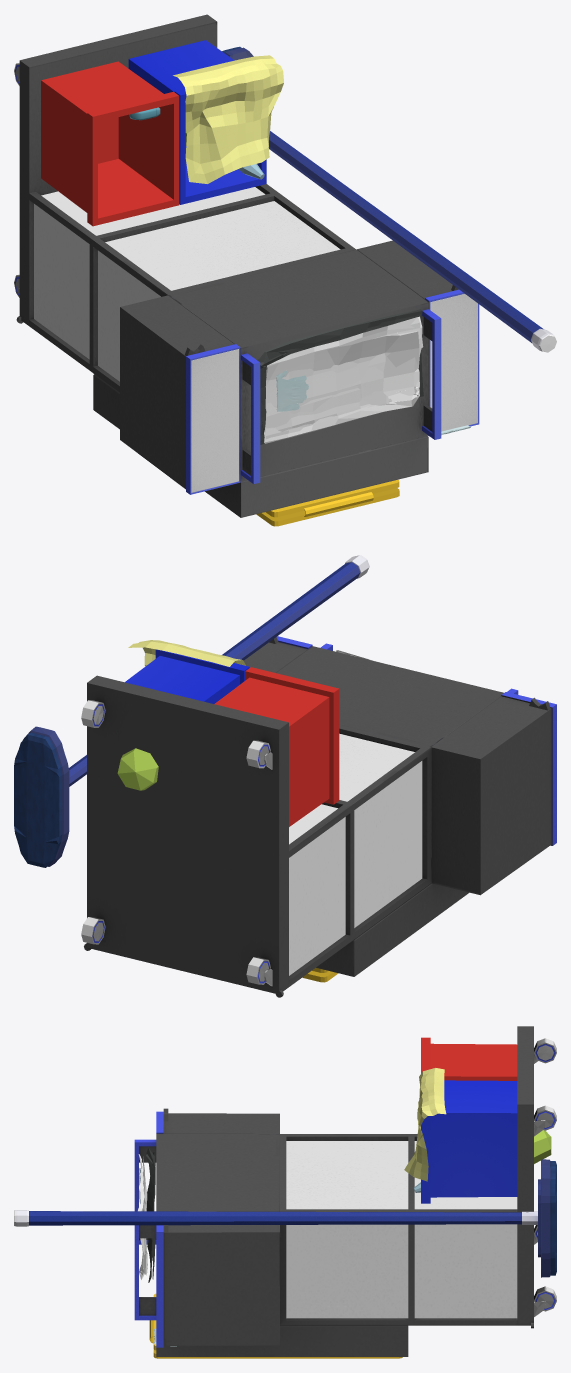
The model's file is MopCart3.obj.
3 views of the same model, one above another, from view 1: azimuth 30°, elevation 25°; view 2: azimuth 150°, elevation 25°; view 3: azimuth 270°, elevation 25° (orthographic). The views are drawn at different scales.
Visible parts, largest first — view 1: Cart_Cube.001, Red_Cube.005, Parcel_Plane.001, Cloth_Plane, Mop_Cube, Bucket_Cube.000, Plastic_Plane.000, Sign_Cylinder, Glove2_Cube.003; view 2: Cart_Cube.001, Mop_Cube, Red_Cube.005, Bucket_Cube.000, Duster_Cylinder.001, Cloth_Plane; view 3: Cart_Cube.001, Bucket_Cube.000, Mop_Cube, Red_Cube.005, Cloth_Plane, Plastic_Plane.000, Sign_Cylinder, Parcel_Plane.001, Duster_Cylinder.001.
Boxes of the visible parts, bbox=[...] form: Cart_Cube.001: bbox=[14, 14, 479, 517]; Red_Cube.005: bbox=[41, 61, 179, 226]; Parcel_Plane.001: bbox=[264, 316, 423, 443]; Cloth_Plane: bbox=[173, 55, 283, 183]; Mop_Cube: bbox=[222, 46, 556, 352]; Bucket_Cube.000: bbox=[128, 40, 266, 204]; Plastic_Plane.000: bbox=[257, 309, 423, 444]; Sign_Cylinder: bbox=[256, 479, 399, 526]; Glove2_Cube.003: bbox=[276, 370, 308, 411]; Cart_Cube.001: bbox=[81, 636, 556, 997]; Mop_Cube: bbox=[14, 555, 369, 867]; Red_Cube.005: bbox=[214, 667, 339, 826]; Bucket_Cube.000: bbox=[125, 649, 249, 703]; Duster_Cylinder.001: bbox=[117, 748, 158, 790]; Cloth_Plane: bbox=[128, 640, 245, 666]; Cart_Cube.001: bbox=[134, 1026, 556, 1356]; Bucket_Cube.000: bbox=[421, 1080, 517, 1203]; Mop_Cube: bbox=[14, 1159, 556, 1277]; Red_Cube.005: bbox=[421, 1037, 517, 1080]; Cloth_Plane: bbox=[404, 1068, 446, 1181]; Plastic_Plane.000: bbox=[146, 1147, 155, 1282]; Sign_Cylinder: bbox=[149, 1293, 402, 1358]; Parcel_Plane.001: bbox=[138, 1154, 147, 1279]; Duster_Cylinder.001: bbox=[414, 1130, 551, 1192].
Bounding box in the file's own units: 0.6361 × 0.6356 × 1.17.
11 materials, 11 textured.
